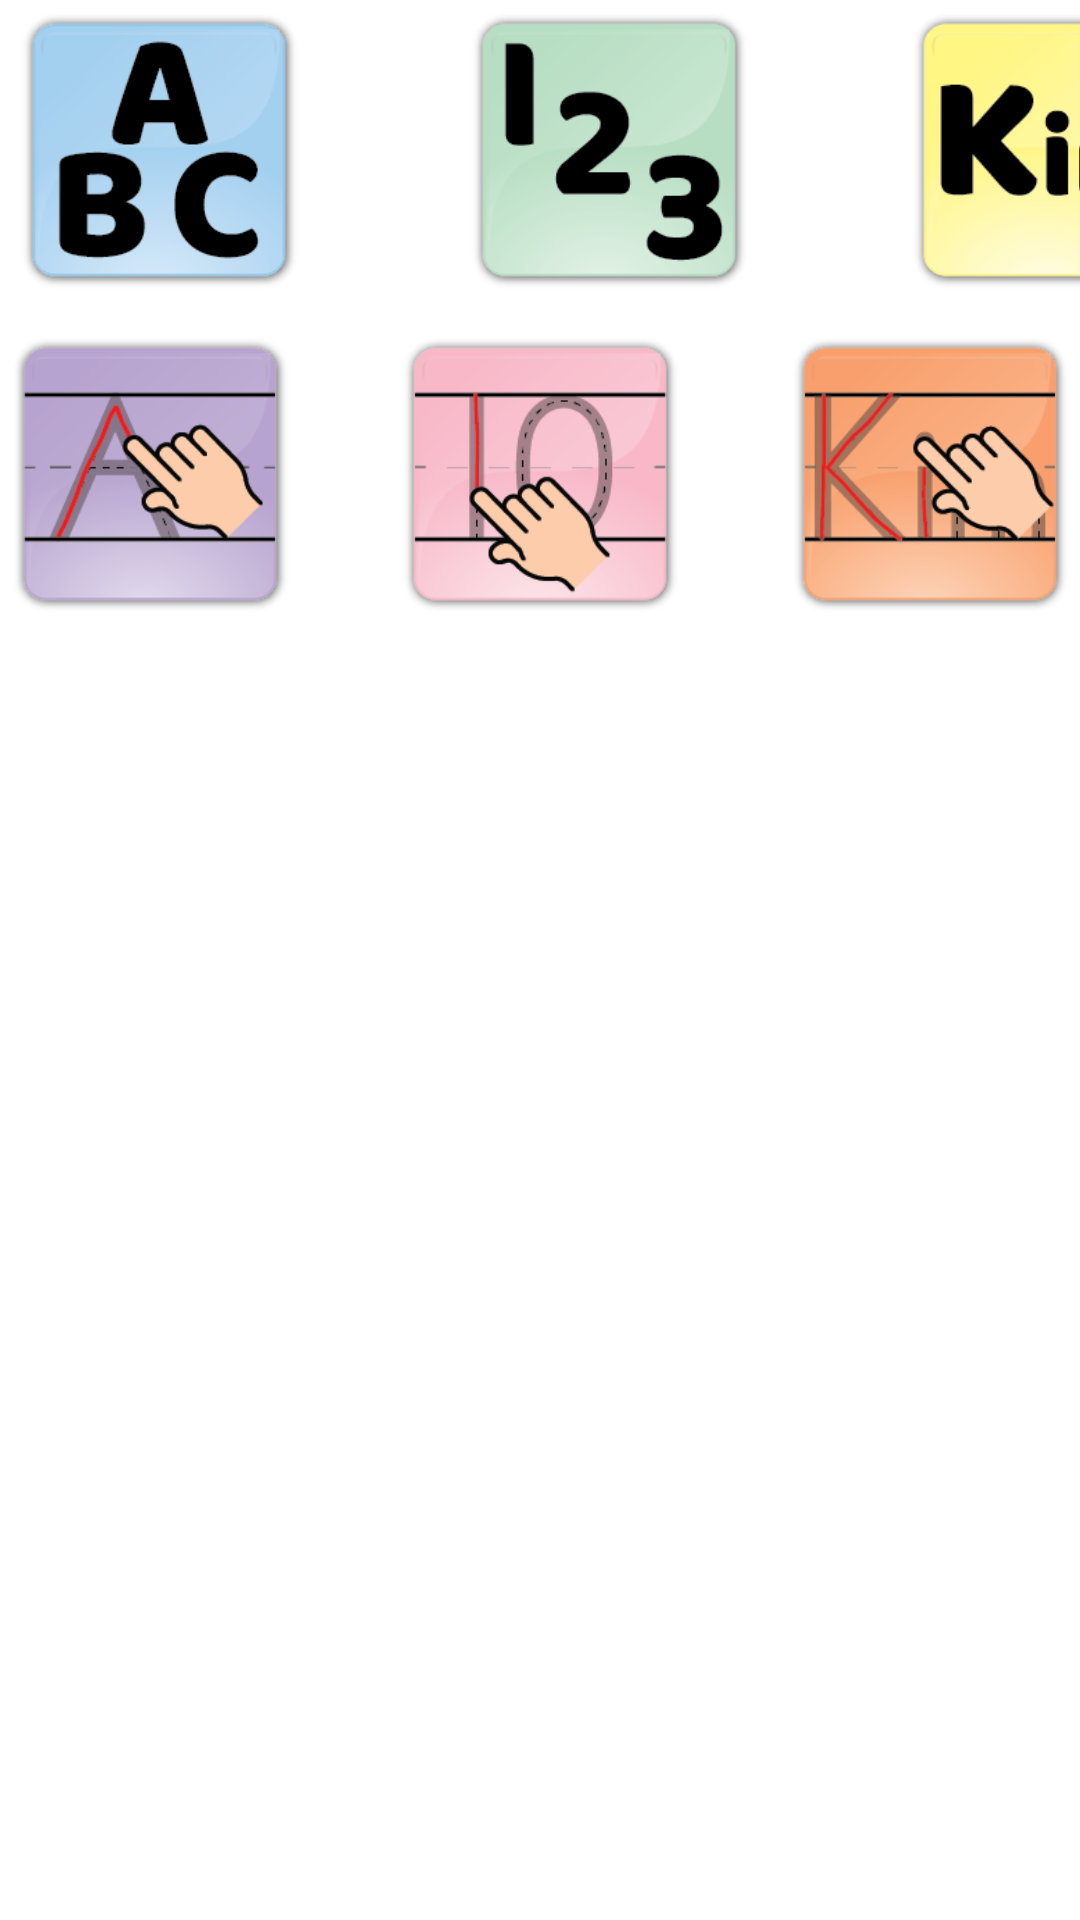

Icon click points for this 1080px x 1920px phone screenshot, format point (x, y):
activity name trace: point (930, 474)
